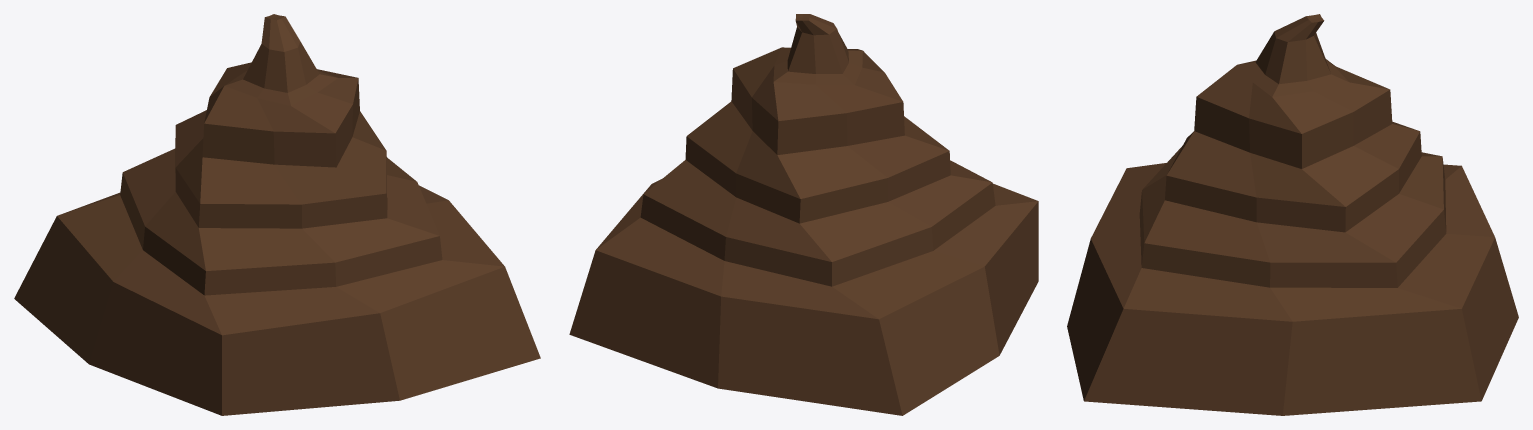
Rendered from poo.fbx.
3 renders of one model, left to right at view 1: azimuth 30°, elevation 25°; view 2: azimuth 150°, elevation 25°; view 3: azimuth 270°, elevation 25°, orthographic. The views are drawn at different scales.
Parts seen in each view (by area): view 1: Cube; view 2: Cube; view 3: Cube.
Boxes of the visible parts, <box> form: Cube: <box>14,14,540,415</box>; Cube: <box>569,14,1038,415</box>; Cube: <box>1067,14,1518,415</box>.
Size of the model in its own units: 267 by 203 by 271.
